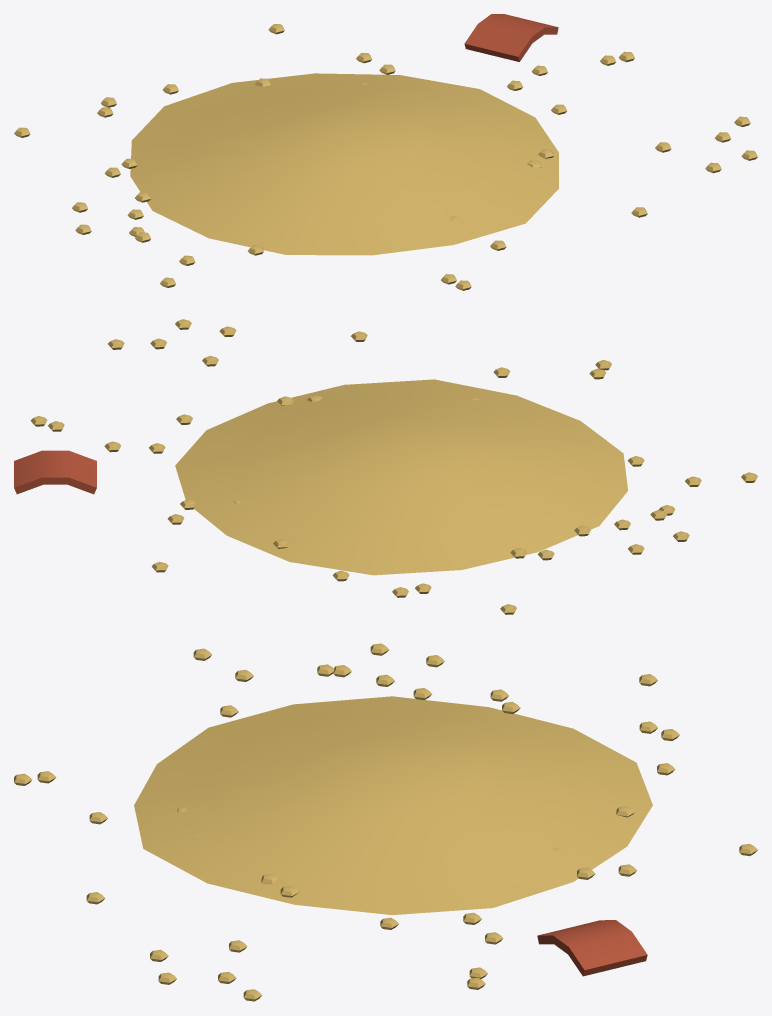
File: deco_decal_grain_spill.fbx
3 views of the same model, one above another, from view 1: azimuth 30°, elevation 25°; view 2: azimuth 150°, elevation 25°; view 3: azimuth 270°, elevation 25° (orthographic). The views are drawn at different scales.
Visible parts, largest first — view 1: Decal_GrainSpill_Grain; view 2: Decal_GrainSpill_Grain; view 3: Decal_GrainSpill_Grain.
Boxes of the visible parts, x1=… form: Decal_GrainSpill_Grain: x1=14, y1=14, x2=757, y2=290; Decal_GrainSpill_Grain: x1=14, y1=319, x2=757, y2=614; Decal_GrainSpill_Grain: x1=14, y1=643, x2=757, y2=1001.
Size of the model in its own units: 146 by 7.44 by 130.
